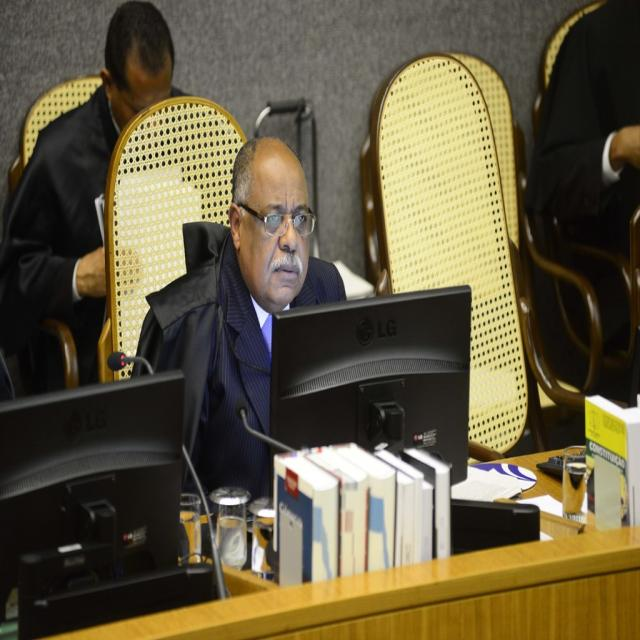chair: (366, 49, 532, 454), (101, 98, 248, 380), (8, 74, 104, 202), (2, 318, 80, 396)
desk: (45, 442, 637, 638)
laptop: (268, 285, 470, 487)
person: (133, 135, 373, 507), (0, 2, 182, 386), (525, 2, 639, 287)
